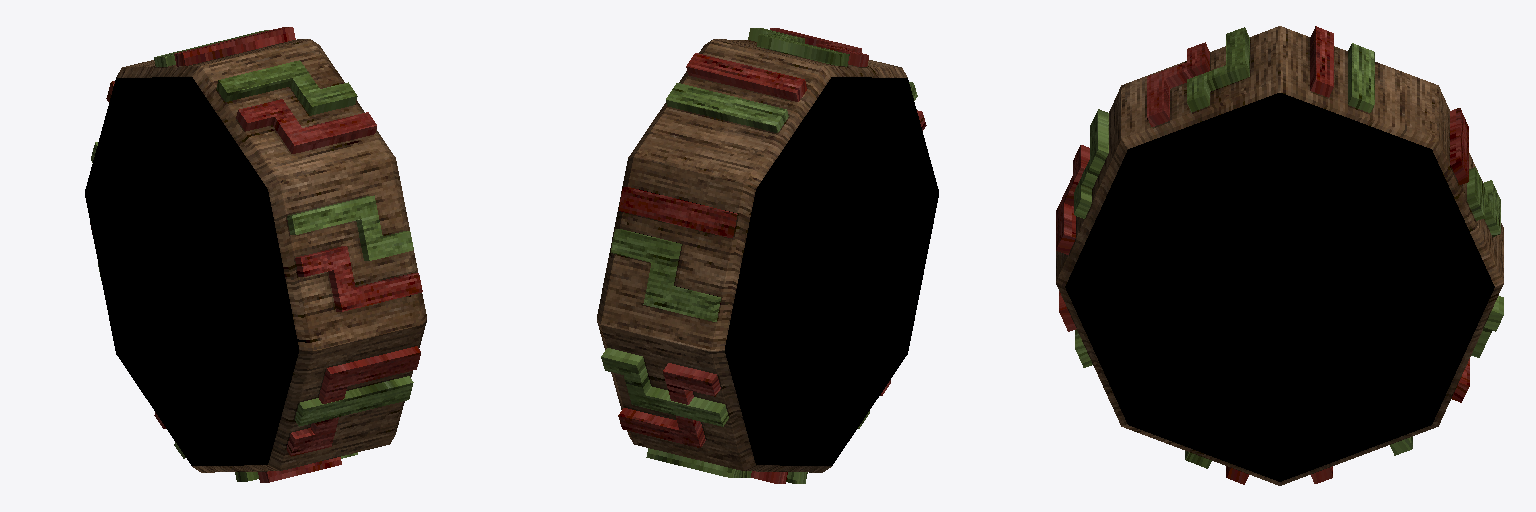
3 renders of one model, left to right at view 1: azimuth 30°, elevation 25°; view 2: azimuth 150°, elevation 25°; view 3: azimuth 270°, elevation 25°, orthographic.
Visible parts, largest first — view 1: Codex_part4; view 2: Codex_part4; view 3: Codex_part4.
Boxes of the visible parts, x1,y1,x2,y2 form: Codex_part4: [85, 27, 426, 482]; Codex_part4: [597, 28, 938, 483]; Codex_part4: [1056, 26, 1503, 485].
Size of the model in its own units: 22.19 by 67.37 by 67.37.
3 materials, 3 textured.